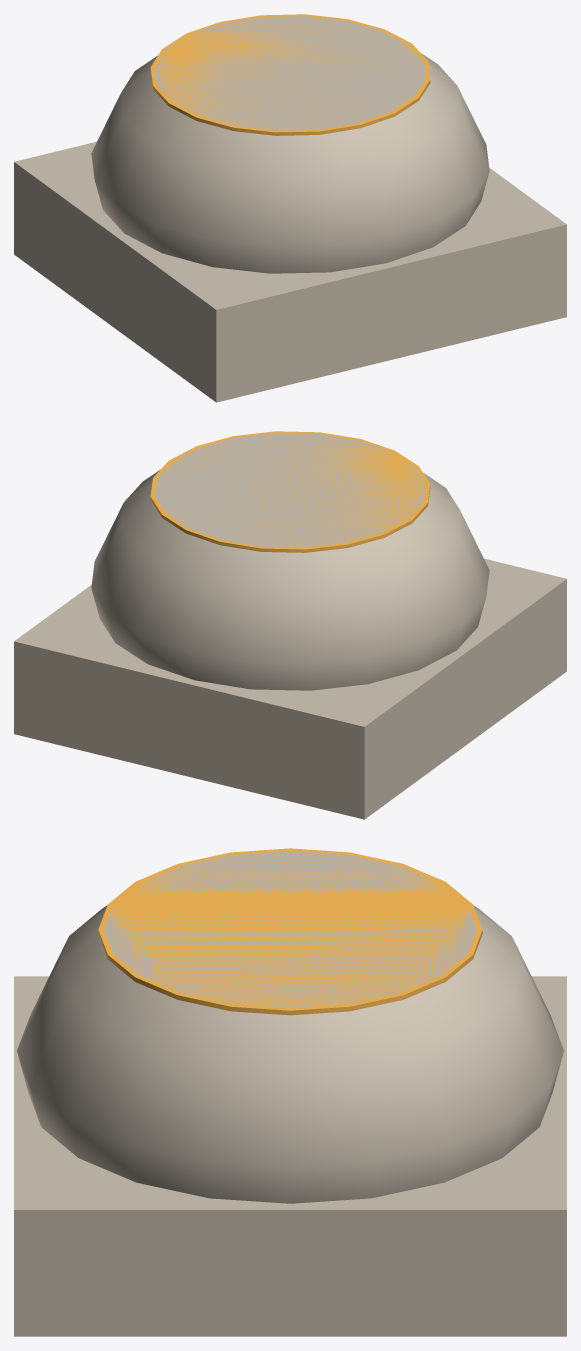
File: pillar_base.glb
3 views of the same model, one above another, from view 1: azimuth 30°, elevation 25°; view 2: azimuth 150°, elevation 25°; view 3: azimuth 270°, elevation 25° (orthographic). The views are drawn at different scales.
Visible parts, largest first — view 1: pillar_base; view 2: pillar_base; view 3: pillar_base.
Boxes of the visible parts, left/top/right/bottom form: pillar_base: left=14, top=14, right=566, bottom=402; pillar_base: left=14, top=431, right=566, bottom=819; pillar_base: left=14, top=848, right=566, bottom=1336.
Size of the model in its own units: 0.95 by 0.55 by 0.95.
